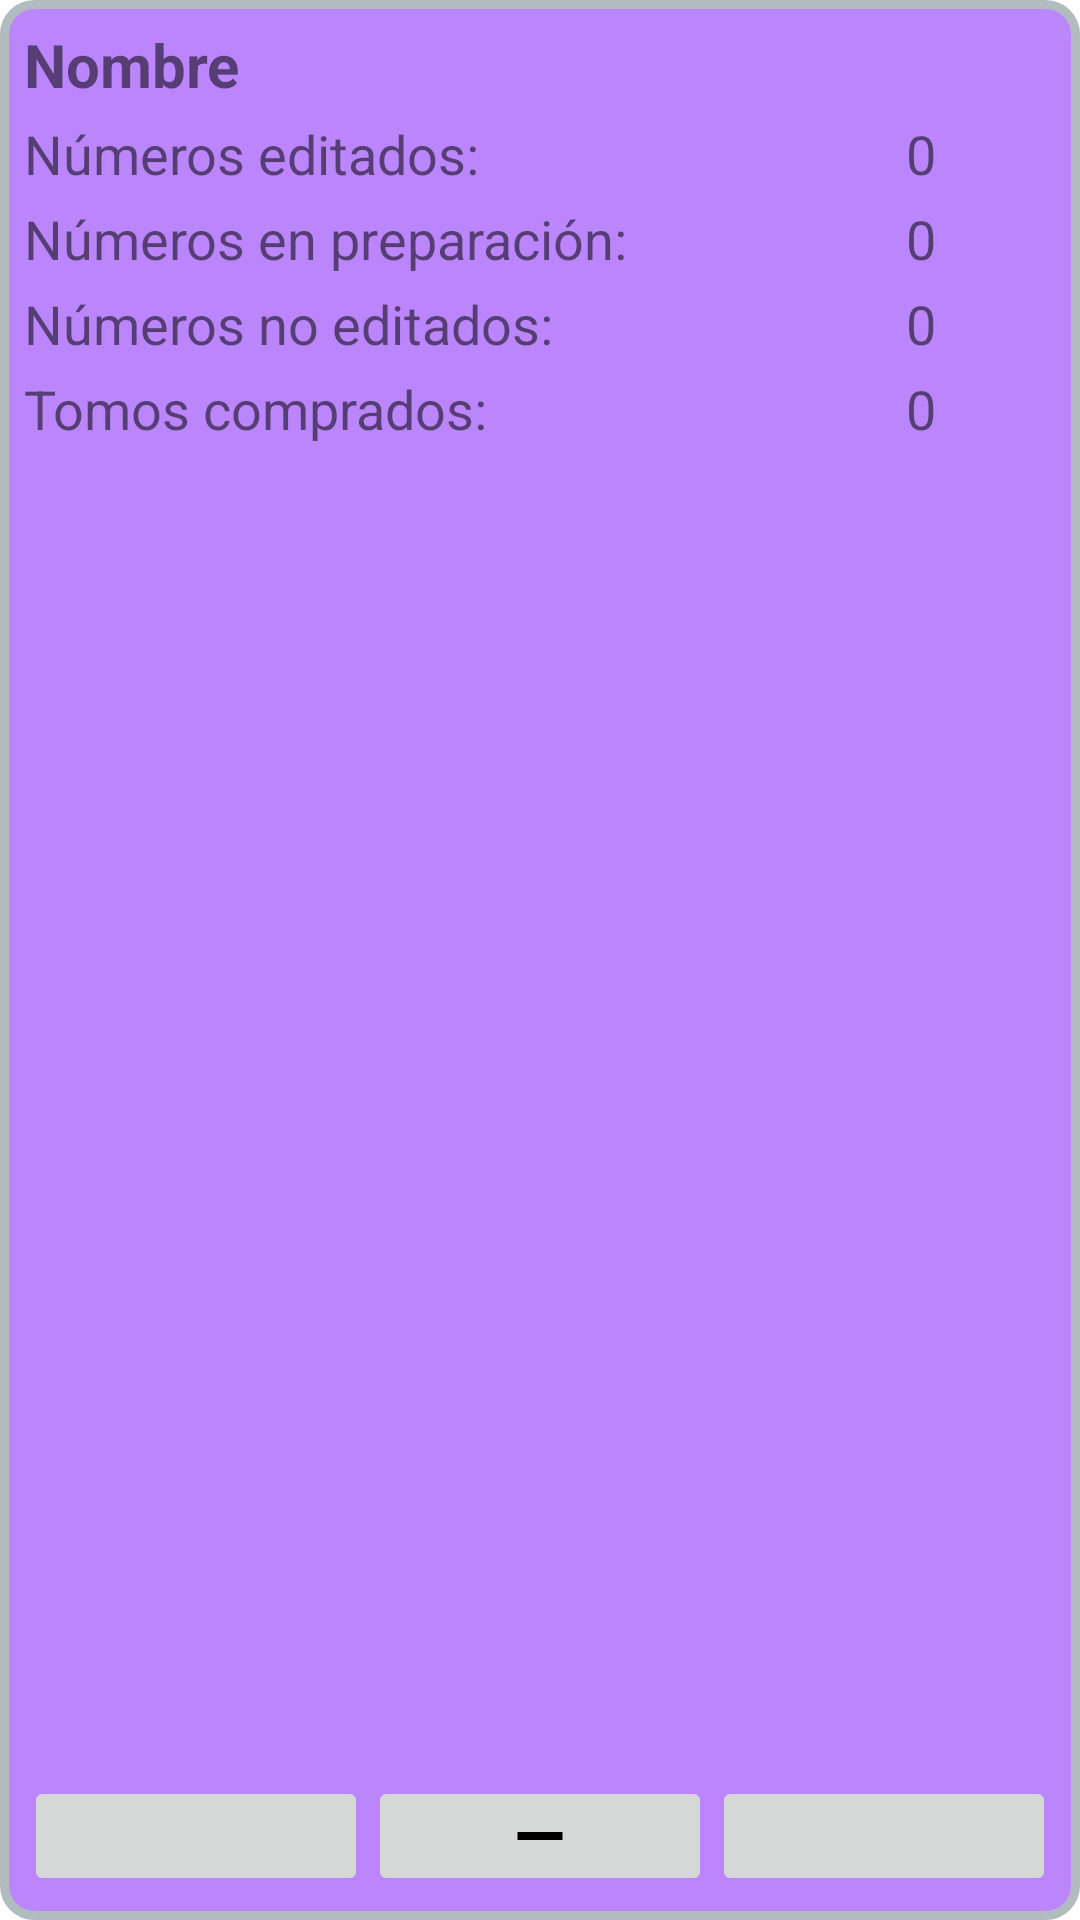

Locate icon controls on the screen. Image size 1080*1920, boxes as (x1, y1, x2, y2).
minusicon: (380, 1794, 700, 1878)
